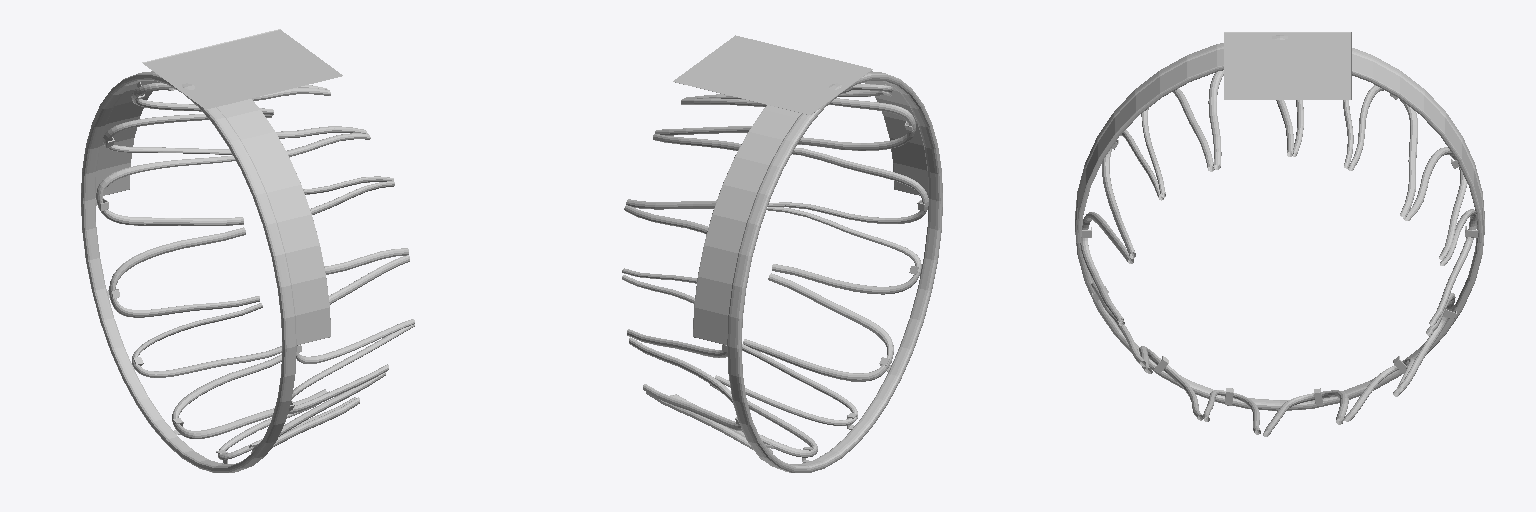
The model's file is hoop3.obj.
3 views of the same model, side by side, from view 1: azimuth 30°, elevation 25°; view 2: azimuth 150°, elevation 25°; view 3: azimuth 270°, elevation 25° (orthographic).
Parts seen in each view (by area): view 1: board; view 2: board; view 3: board.
Boxes of the visible parts, x1,y1,x2,y2 form: board: [81, 29, 414, 472]; board: [622, 35, 942, 472]; board: [1075, 32, 1484, 436].
Size of the model in its own units: 7.78 by 17.63 by 17.63.